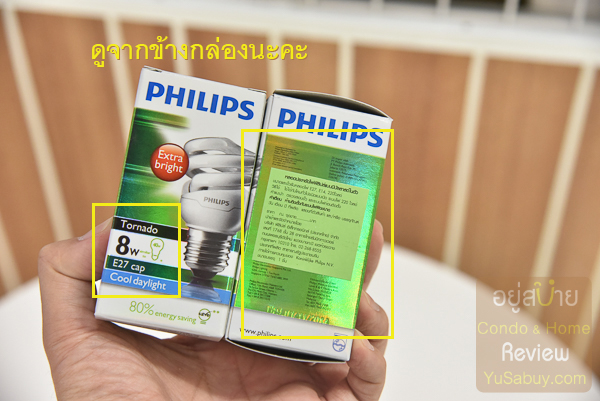Light_bulb: (180, 131, 262, 279)
